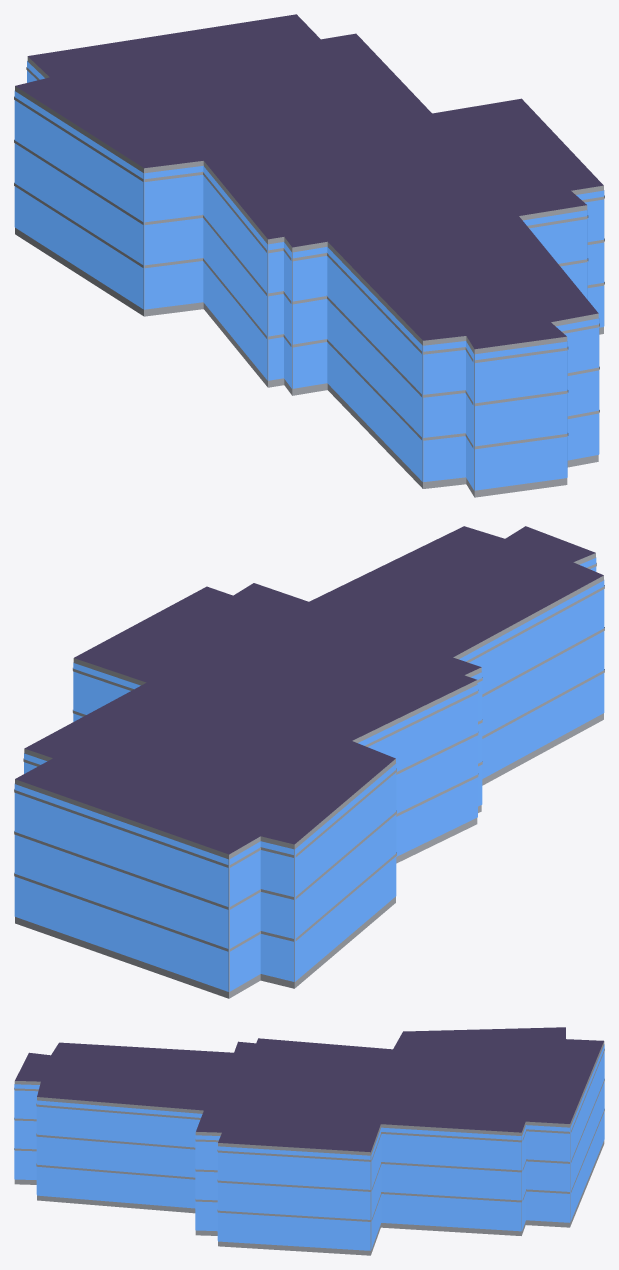
File: core-western-student-services-building.glb
3 renders of one model, top to bottom at view 1: azimuth 30°, elevation 25°; view 2: azimuth 150°, elevation 25°; view 3: azimuth 270°, elevation 25°, orthographic. The views are drawn at different scales.
Parts seen in each view (by area): view 1: campus/core-western-student-services-building-0; view 2: campus/core-western-student-services-building-0; view 3: campus/core-western-student-services-building-0.
Part boxes in pixels (x1,y1,x2,y2): campus/core-western-student-services-building-0: (14,14,604,497); campus/core-western-student-services-building-0: (14,526,604,998); campus/core-western-student-services-building-0: (14,1027,604,1255).
Size of the model in its own units: 32.28 by 12.4 by 64.15.
